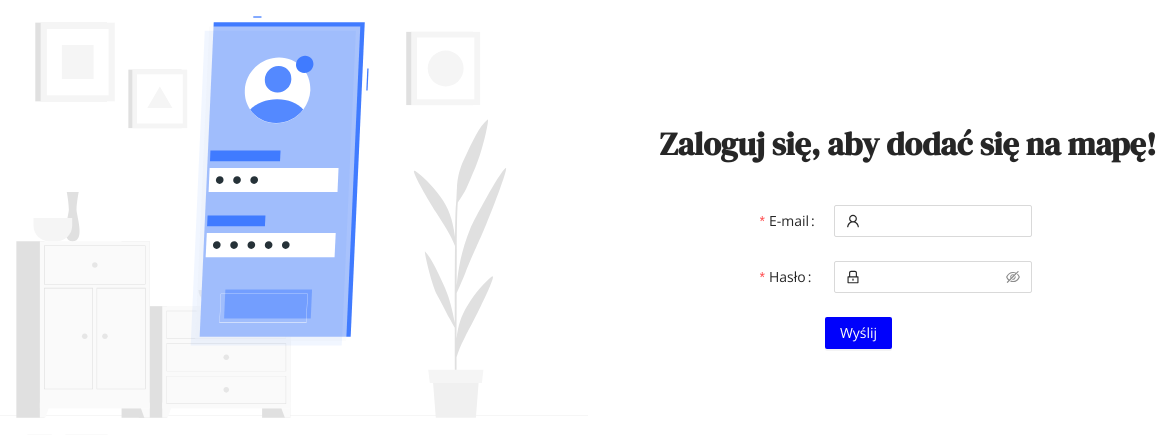
<SignIn /> › should render sign in button and send empty data request
The image size is (1173, 435).
Click the button with test id "sign-in-button-test-id": (858, 333) [825,317,892,349]
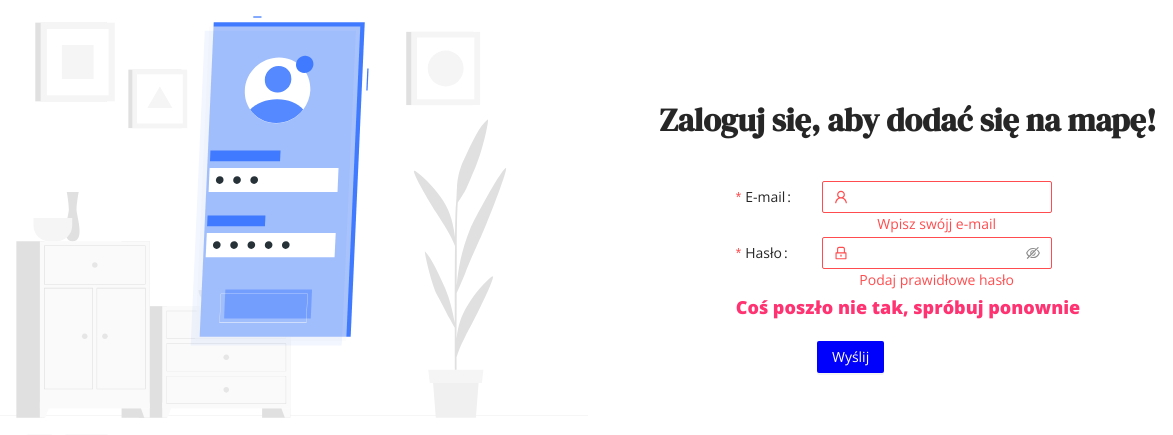
Expected: the text "Coś poszło nie tak, spróbuj ponownie" is not empty, [736,293,1080,321]
